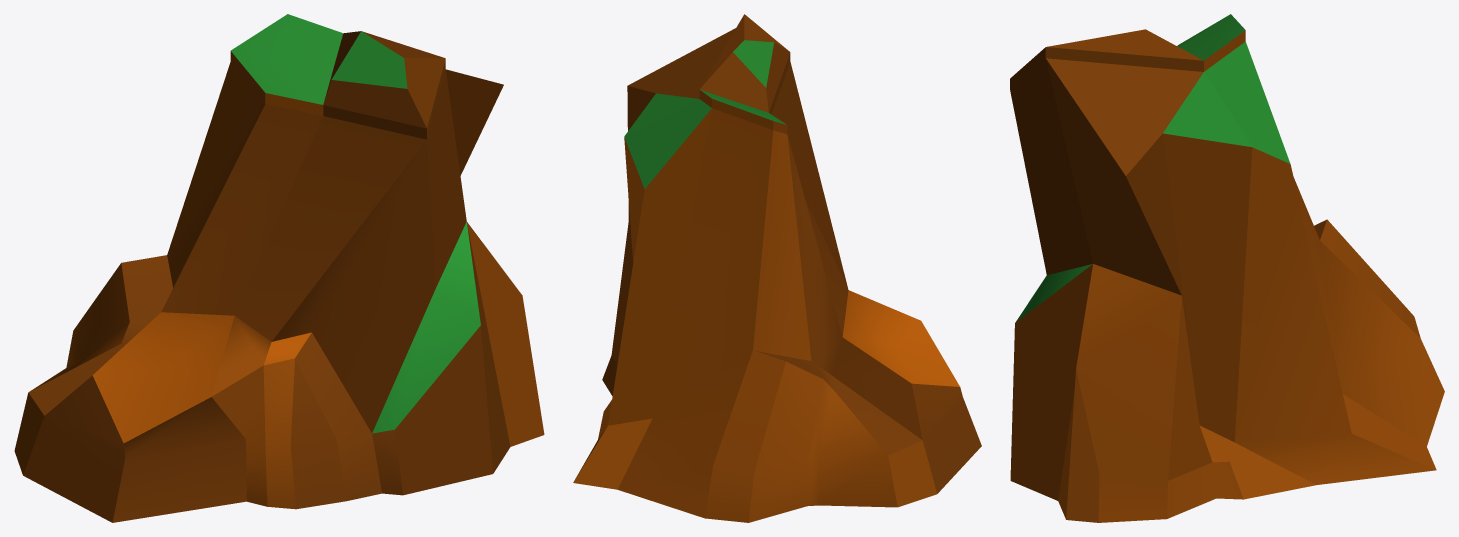
File: Rock_4.fbx
3 renders of one model, left to right at view 1: azimuth 30°, elevation 25°; view 2: azimuth 150°, elevation 25°; view 3: azimuth 270°, elevation 25°, orthographic. The views are drawn at different scales.
Parts seen in each view (by area): view 1: Rock_4; view 2: Rock_4; view 3: Rock_4.
Part boxes in pixels (x1=…): Rock_4: x1=14, y1=14, x2=544, y2=522; Rock_4: x1=573, y1=14, x2=981, y2=522; Rock_4: x1=1010, y1=14, x2=1444, y2=522.
Bounding box in the file's own units: 1040 × 929 × 874.
1 material, 1 textured.
